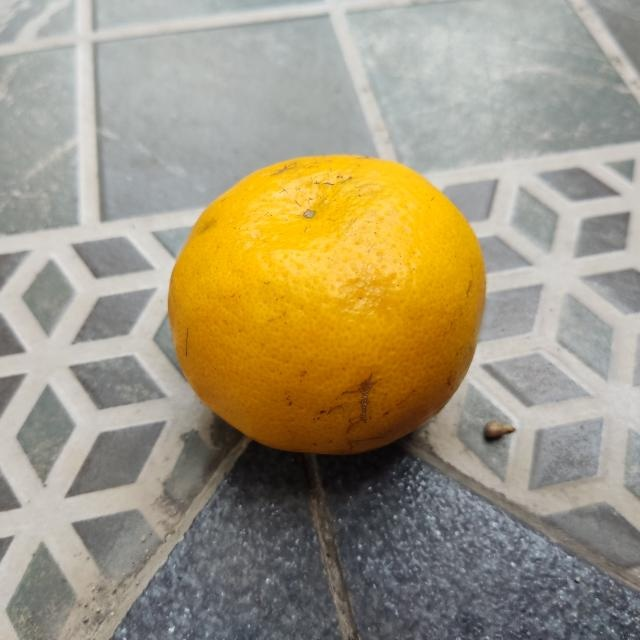agrume: (166, 149, 490, 465)
